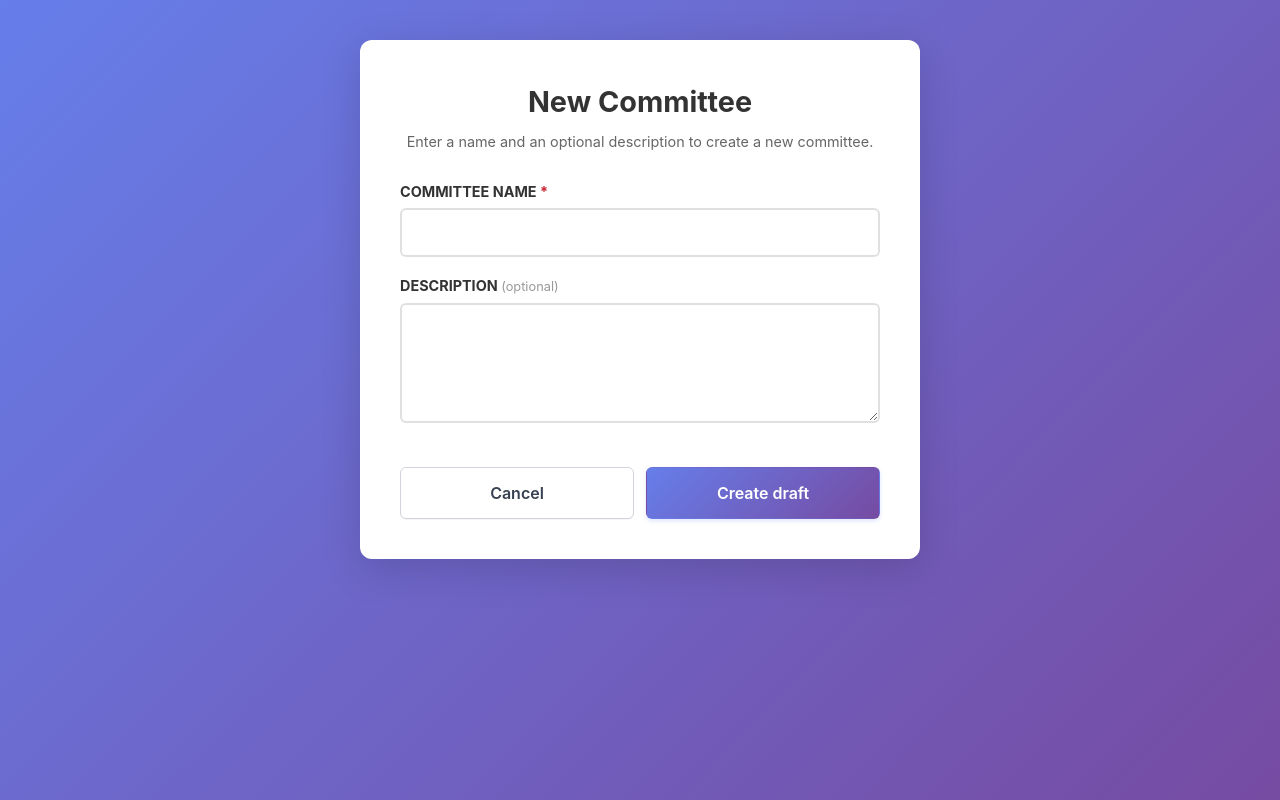
Scenario: CommitteeCreationForm › renders duplicate name error when API returns 409
The image size is (1280, 800).
Type "Test Committee" into the field labelled "Committee name *" at [640, 233], box left=400, top=208, right=880, bottom=257
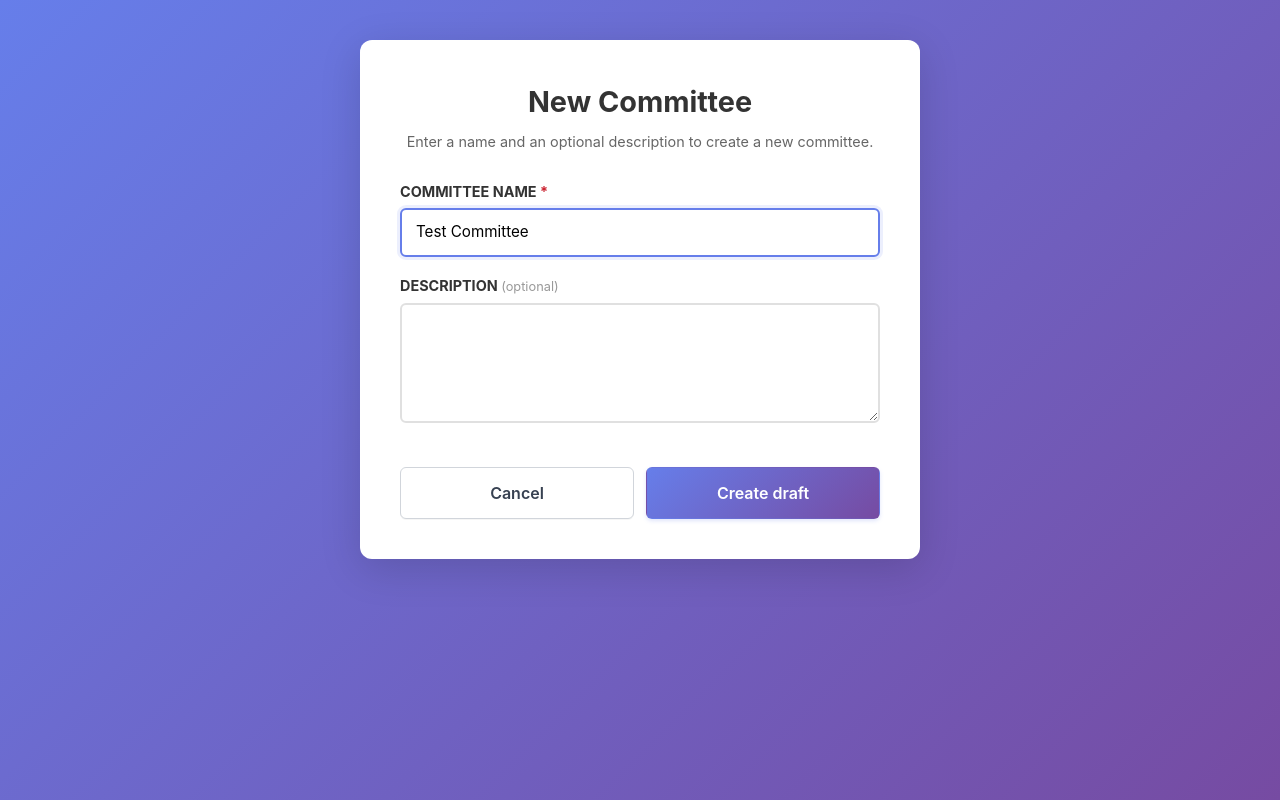
Type "A new committee draft" into the text box labelled "Description (optional)" at [640, 363], box left=400, top=303, right=880, bottom=423
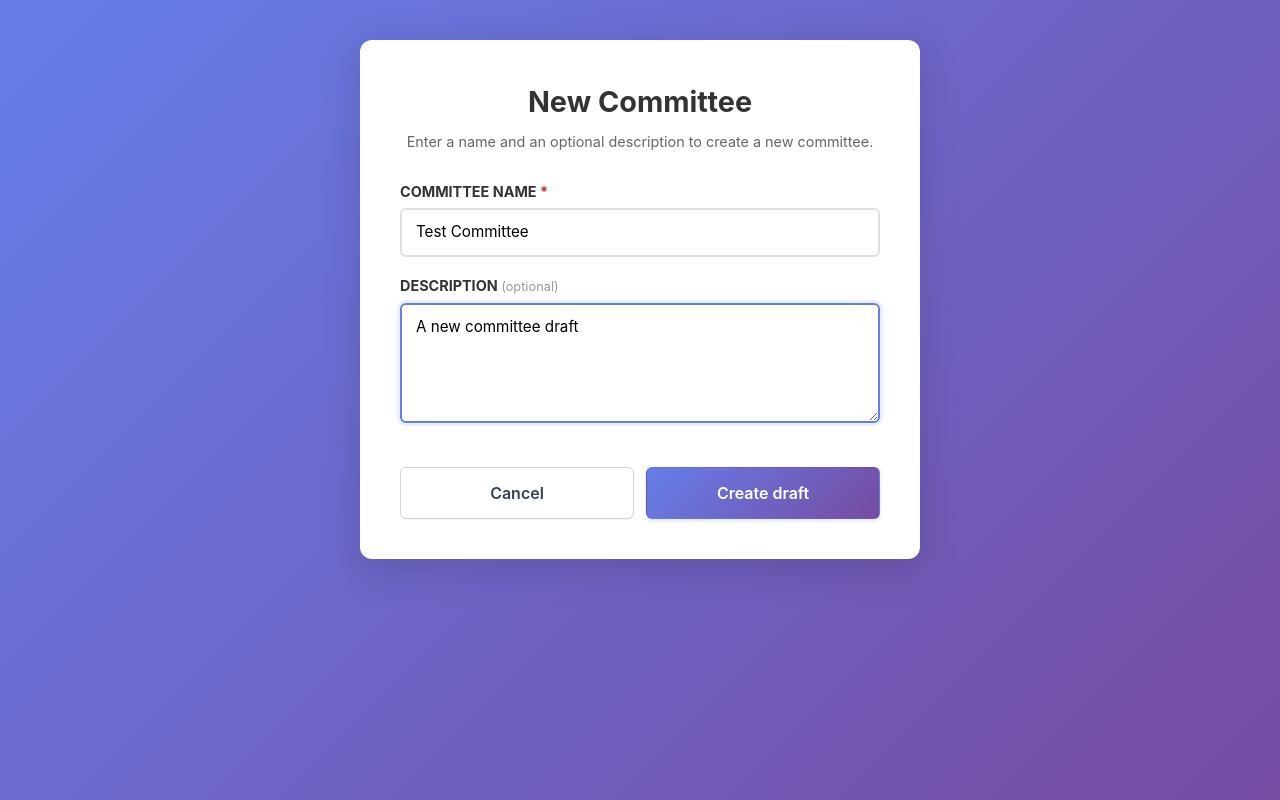
Click the button "Create draft" at [763, 493], box left=646, top=467, right=880, bottom=519
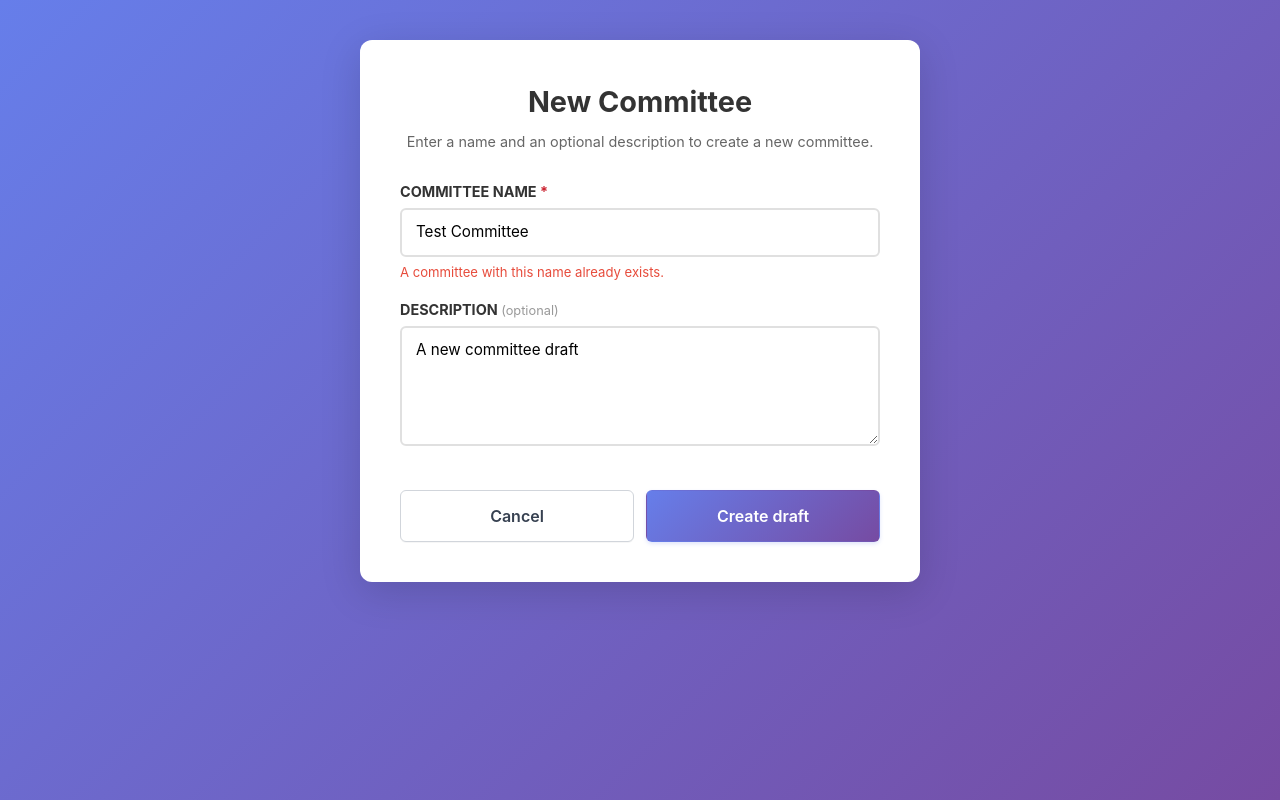
expect the text "A committee with this name already exists." is shown: met, box left=400, top=264, right=664, bottom=280
